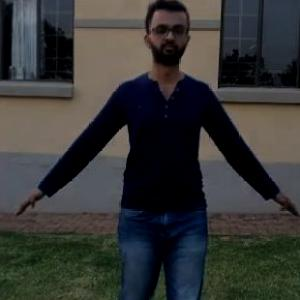land: (35, 0, 297, 299)
